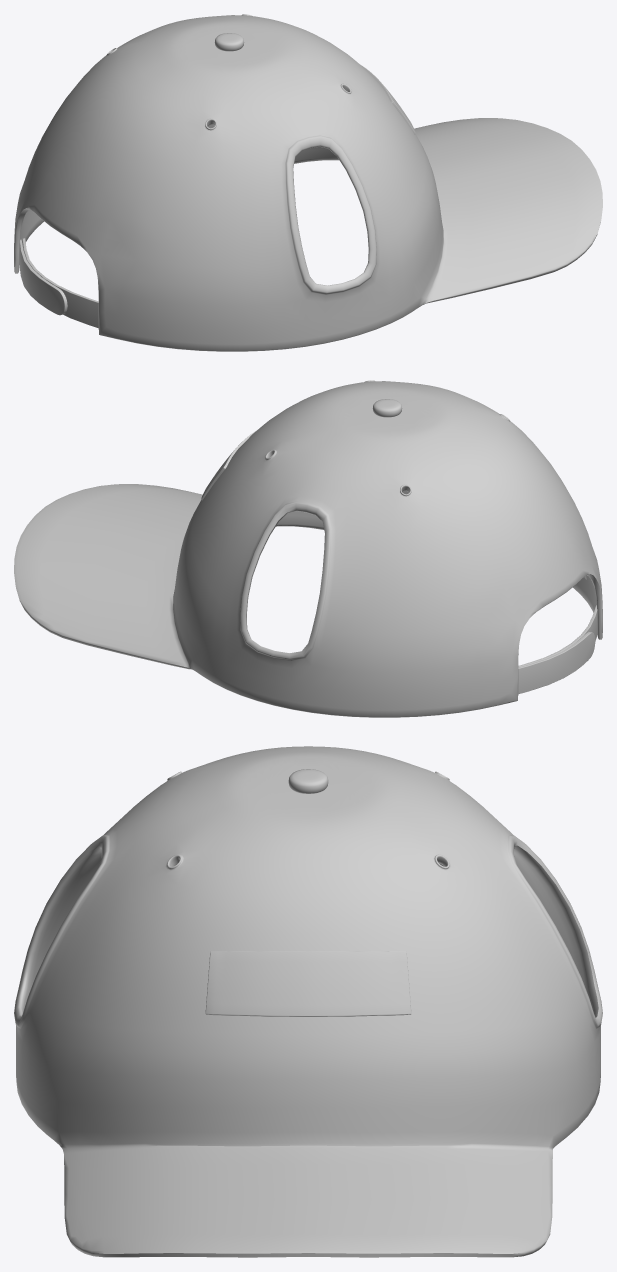
The model's file is cab.fbx.
3 renders of one model, top to bottom at view 1: azimuth 30°, elevation 25°; view 2: azimuth 150°, elevation 25°; view 3: azimuth 270°, elevation 25°, orthographic. The views are drawn at different scales.
Parts seen in each view (by area): view 1: Cylinder.004; view 2: Cylinder.004; view 3: Cylinder.004.
Part boxes in pixels (x1,y1,x2,y2): Cylinder.004: [14, 14, 602, 351]; Cylinder.004: [14, 380, 602, 717]; Cylinder.004: [14, 746, 602, 1257].
Bounding box in the file's own units: 2419 × 991 × 1718.
